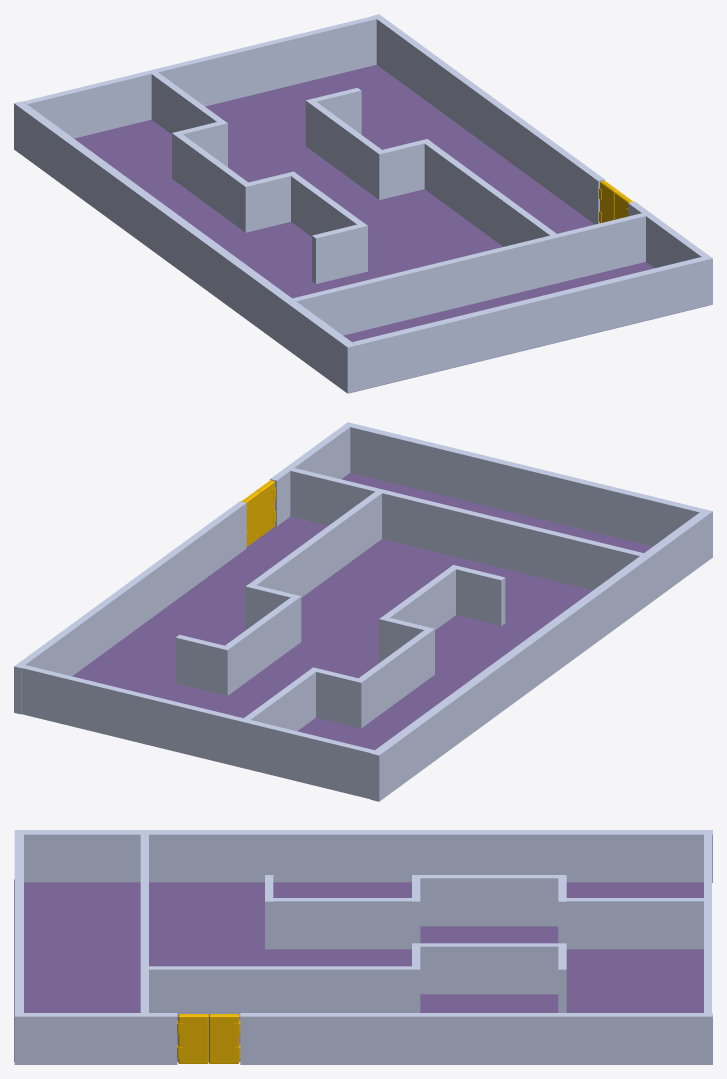
File: maps39.fbx
The picture shows the model from 3 angles, top to bottom: view 1: azimuth 30°, elevation 25°; view 2: azimuth 150°, elevation 25°; view 3: azimuth 270°, elevation 25°; orthographic projection. The views are drawn at different scales.
Parts seen in each view (by area): view 1: wall_01_08_geo, wall_01_07_geo, wall_01_05_geo, wall_01_09_geo3, wall_01_09_geo, wall_01_06_geo, wall_01_11_geo7, wall_01_11_geo8, wall_01_11_geo4, wall_01_09_geo5, wall_01_09_geo7, wall_01_09_geo4 (+6 smaller); view 2: wall_01_08_geo, wall_01_07_geo, wall_01_09_geo, wall_01_05_geo, wall_01_09_geo3, wall_01_06_geo, wall_01_11_geo7, wall_01_11_geo8, wall_01_11_geo4, wall_01_09_geo6, wall_01_06_geo1, wall_01_09_geo2 (+7 smaller); view 3: wall_01_08_geo, wall_01_07_geo, wall_01_06_geo, wall_01_11_geo7, wall_01_06_geo1, wall_01_11_geo6, wall_01_11_geo4, wall_01_11_geo8, wall_01_11_geo5, wall_01_05_geo, wall_01_09_geo3, polySurface165 (+7 smaller).
Part boxes in pixels (x1=…): wall_01_08_geo: x1=74, y1=64, x2=708, y2=392; wall_01_07_geo: x1=14, y1=101, x2=356, y2=393; wall_01_05_geo: x1=352, y1=257, x2=705, y2=391; wall_01_09_geo3: x1=292, y1=213, x2=645, y2=335; wall_01_09_geo: x1=23, y1=16, x2=376, y2=138; wall_01_06_geo: x1=372, y1=14, x2=604, y2=224; wall_01_11_geo7: x1=424, y1=142, x2=556, y2=246; wall_01_11_geo8: x1=309, y1=102, x2=381, y2=196; wall_01_11_geo4: x1=175, y1=134, x2=248, y2=229; wall_01_09_geo5: x1=312, y1=223, x2=367, y2=283; wall_01_09_geo7: x1=375, y1=139, x2=430, y2=199; wall_01_09_geo4: x1=241, y1=171, x2=296, y2=232; wall_01_08_geo: x1=72, y1=473, x2=652, y2=750; wall_01_07_geo: x1=370, y1=509, x2=712, y2=801; wall_01_09_geo: x1=21, y1=665, x2=374, y2=798; wall_01_05_geo: x1=350, y1=424, x2=703, y2=546; wall_01_09_geo3: x1=290, y1=468, x2=643, y2=590; wall_01_06_geo: x1=14, y1=501, x2=246, y2=714; wall_01_11_geo7: x1=250, y1=491, x2=381, y2=597; wall_01_11_geo8: x1=225, y1=597, x2=297, y2=692; wall_01_11_geo4: x1=359, y1=630, x2=430, y2=725; wall_01_09_geo6: x1=175, y1=634, x2=231, y2=695; wall_01_06_geo1: x1=270, y1=422, x2=354, y2=526; wall_01_09_geo2: x1=309, y1=667, x2=365, y2=728; wall_01_08_geo: x1=14, y1=879, x2=703, y2=1061; wall_01_07_geo: x1=14, y1=830, x2=712, y2=882; wall_01_06_geo: x1=240, y1=1013, x2=712, y2=1064; wall_01_11_geo7: x1=149, y1=966, x2=411, y2=1017; wall_01_06_geo1: x1=14, y1=1013, x2=177, y2=1064; wall_01_11_geo6: x1=273, y1=898, x2=412, y2=949; wall_01_11_geo4: x1=420, y1=875, x2=559, y2=926; wall_01_11_geo8: x1=420, y1=943, x2=558, y2=994; wall_01_11_geo5: x1=566, y1=898, x2=705, y2=949; wall_01_05_geo: x1=14, y1=834, x2=23, y2=1012; wall_01_09_geo3: x1=140, y1=834, x2=148, y2=1012; polySurface165: x1=177, y1=1014, x2=208, y2=1063.
Bounding box in the file's own units: 73.34 × 8.89 × 116.
2 materials, 2 textured.
